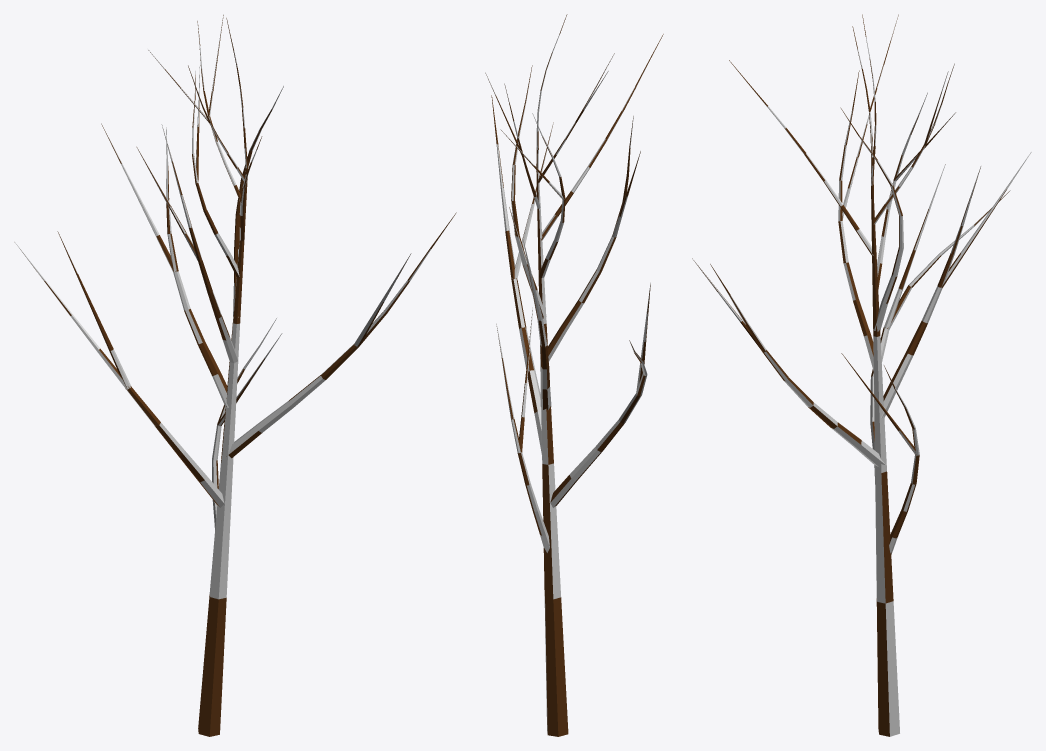
The model's file is Tree_28.fbx.
3 renders of one model, left to right at view 1: azimuth 30°, elevation 25°; view 2: azimuth 150°, elevation 25°; view 3: azimuth 270°, elevation 25°, orthographic. The views are drawn at different scales.
Parts seen in each view (by area): view 1: Tree_28; view 2: Tree_28; view 3: Tree_28.
Boxes of the visible parts, <box> form: Tree_28: <box>14,14,456,736</box>; Tree_28: <box>485,14,663,736</box>; Tree_28: <box>692,14,1031,736</box>.
Size of the model in its own units: 276 by 655 by 280.
